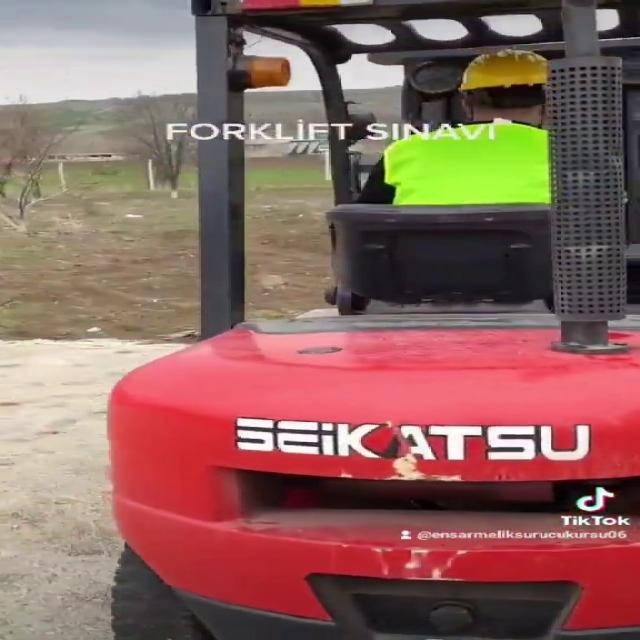ForkLift: (118, 0, 640, 640)
Human: (314, 34, 592, 264)
